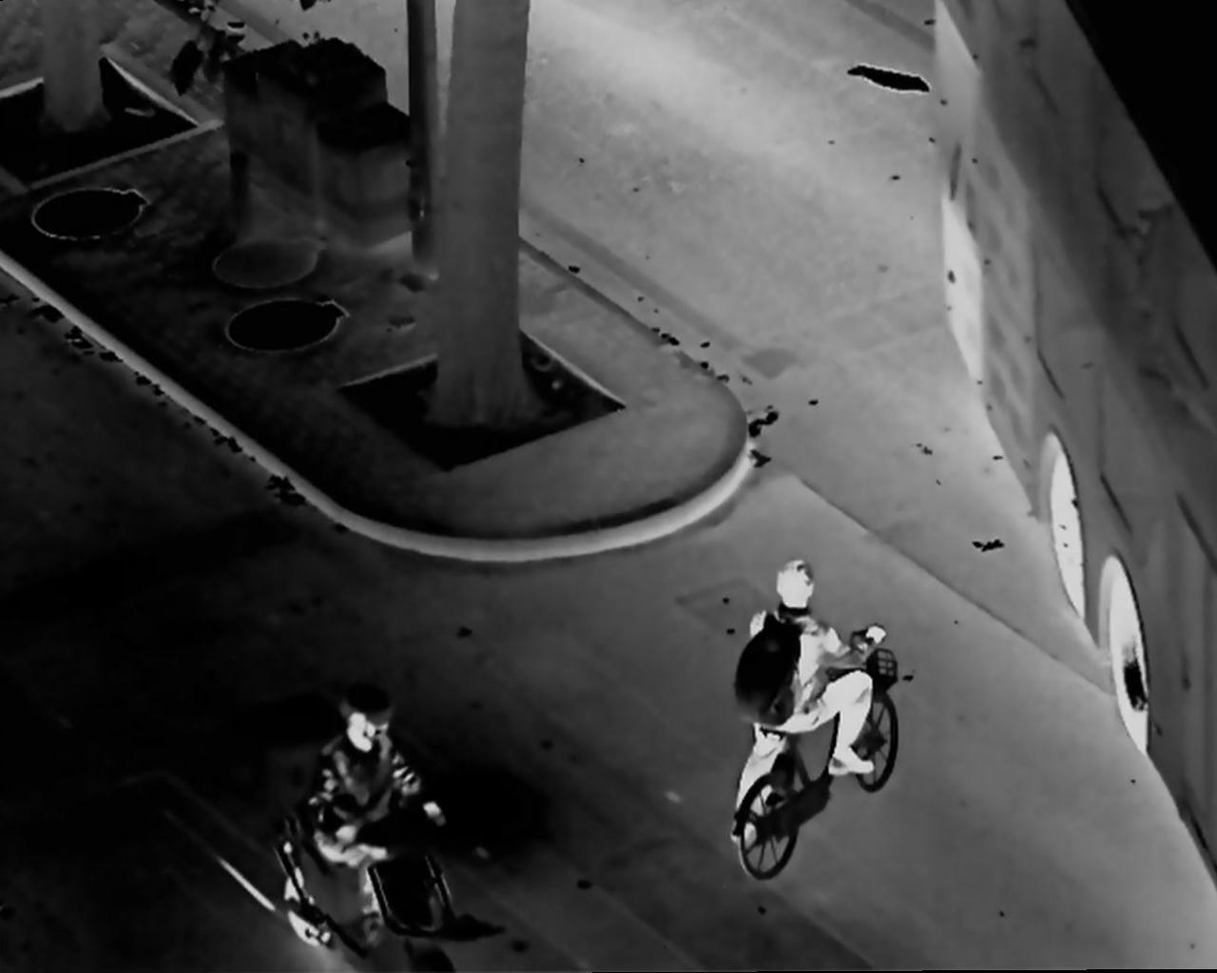person: (730, 554, 884, 856), (298, 685, 450, 944)
